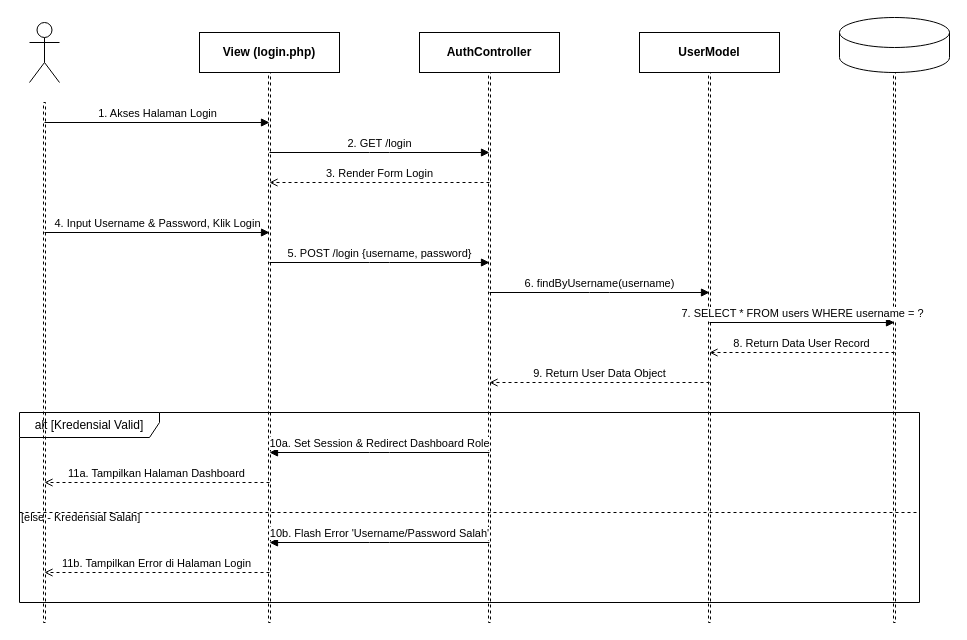
Image size: 967x640. Some labels were removed from this diagram. Each missing label, with the centre of its shape:
"Database MySQL" belongs at point (894, 44).
"Pengguna" belongs at point (44, 52).
